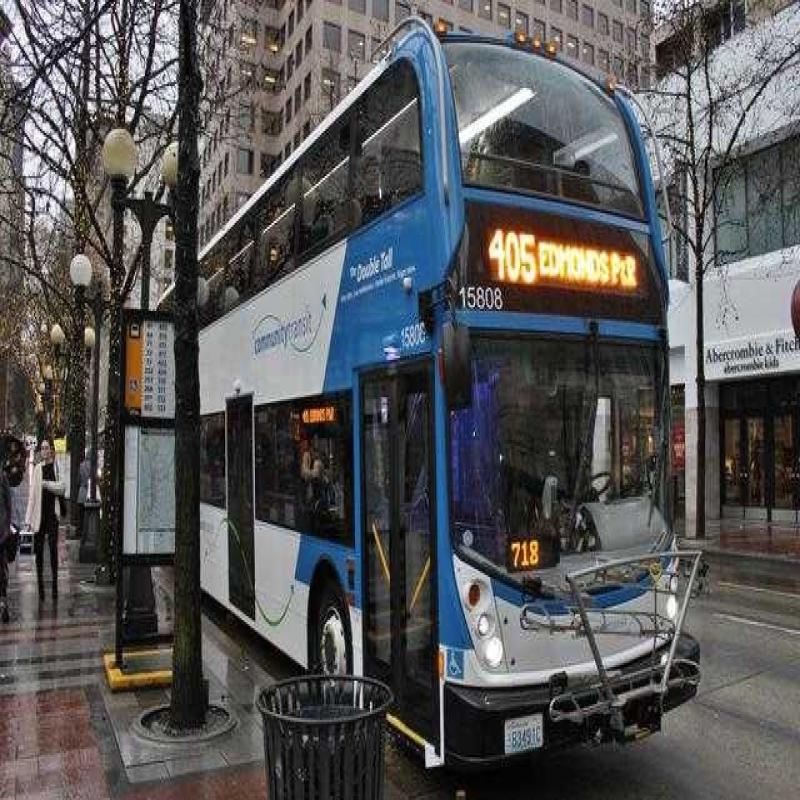bus: (166, 29, 723, 763)
